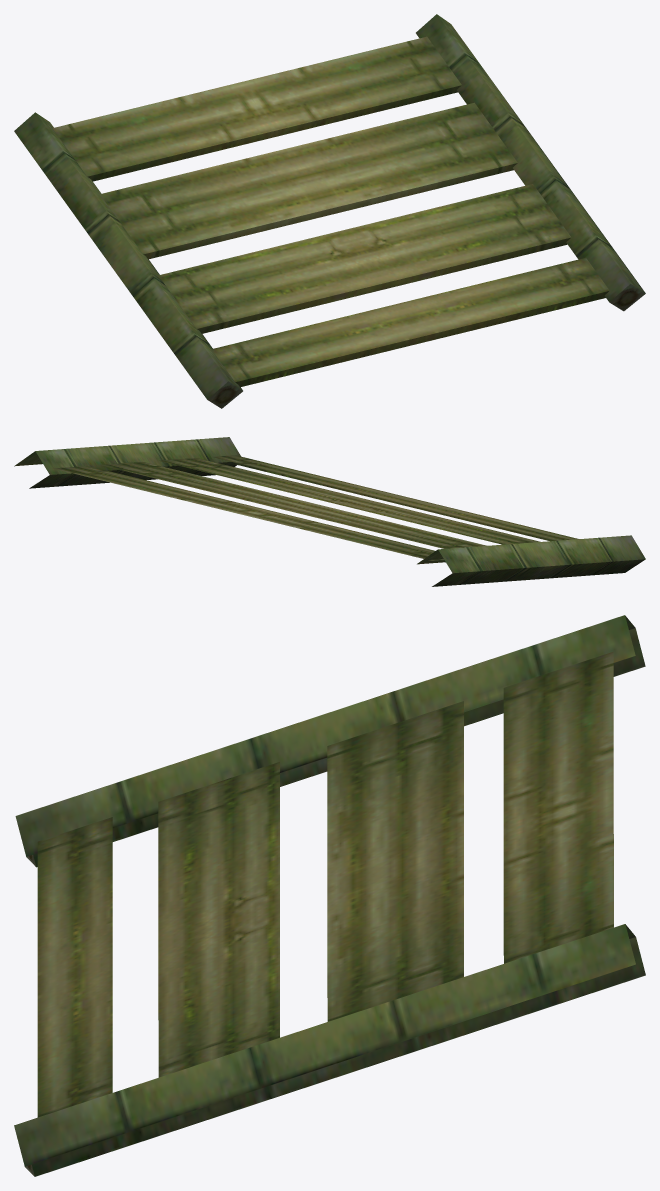
The model's file is yw_yanziwu_zhuti.FBX.
The picture shows the model from 3 angles, top to bottom: view 1: azimuth 30°, elevation 25°; view 2: azimuth 150°, elevation 25°; view 3: azimuth 270°, elevation 25°; orthographic projection. The views are drawn at different scales.
Visible parts, largest first — view 1: yw_yanziwu_zhuti; view 2: yw_yanziwu_zhuti; view 3: yw_yanziwu_zhuti.
Boxes of the visible parts, x1=… form: yw_yanziwu_zhuti: x1=14, y1=14, x2=645, y2=408; yw_yanziwu_zhuti: x1=14, y1=437, x2=645, y2=586; yw_yanziwu_zhuti: x1=14, y1=615, x2=645, y2=1176.
Bounding box in the file's own units: 581 × 203 × 460.
